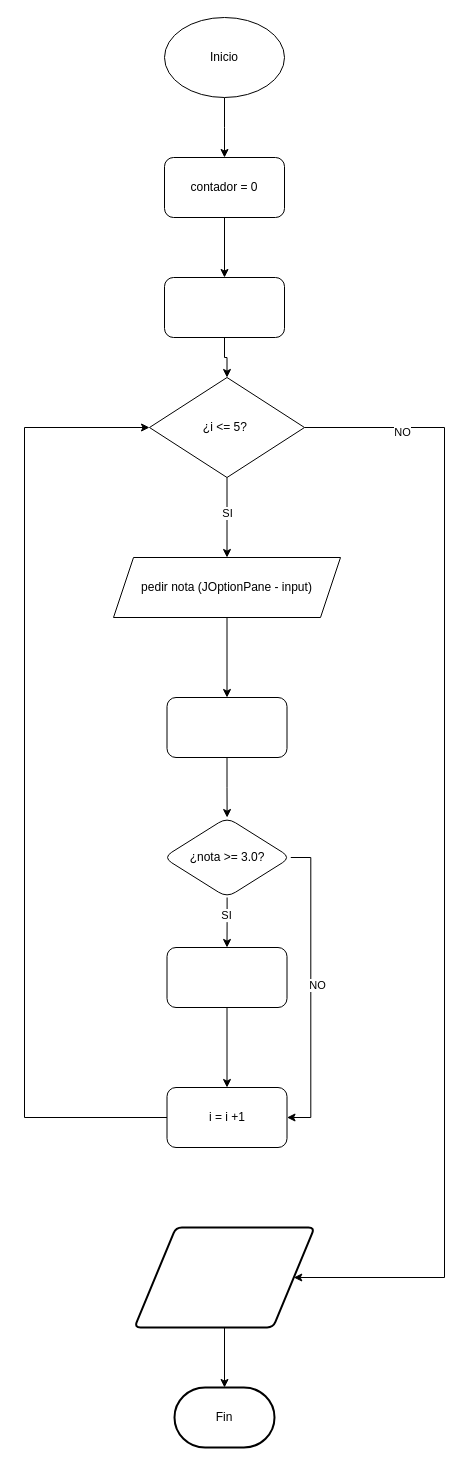
Some shapes in this 470 by 1466 pixel diagram are drawn without their labels. The shapes that lost their labels are listed below. From the top down, each one's box as (x1, y1, x2, y2) in pixels, then its label:
(164, 276, 284, 338): i = 1
(166, 696, 287, 758): Convertir a double
(166, 946, 287, 1008): contador ++
(133, 1226, 315, 1328): Mostrar "contador"
